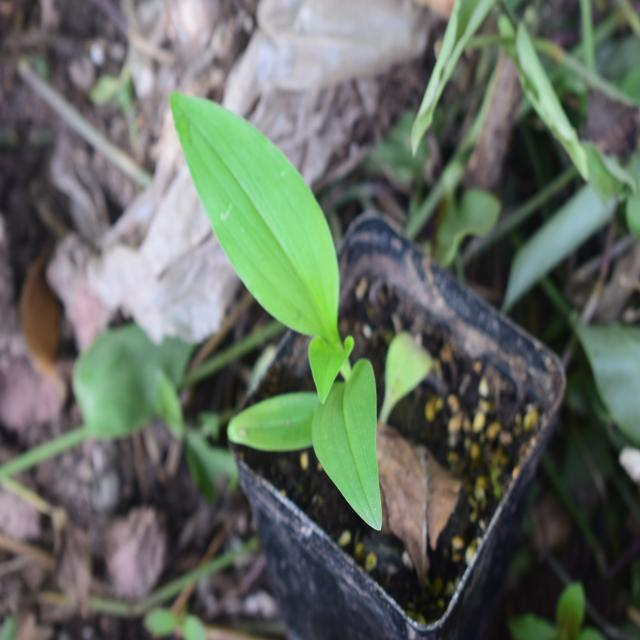Common Dayflower: (161, 85, 400, 538)
